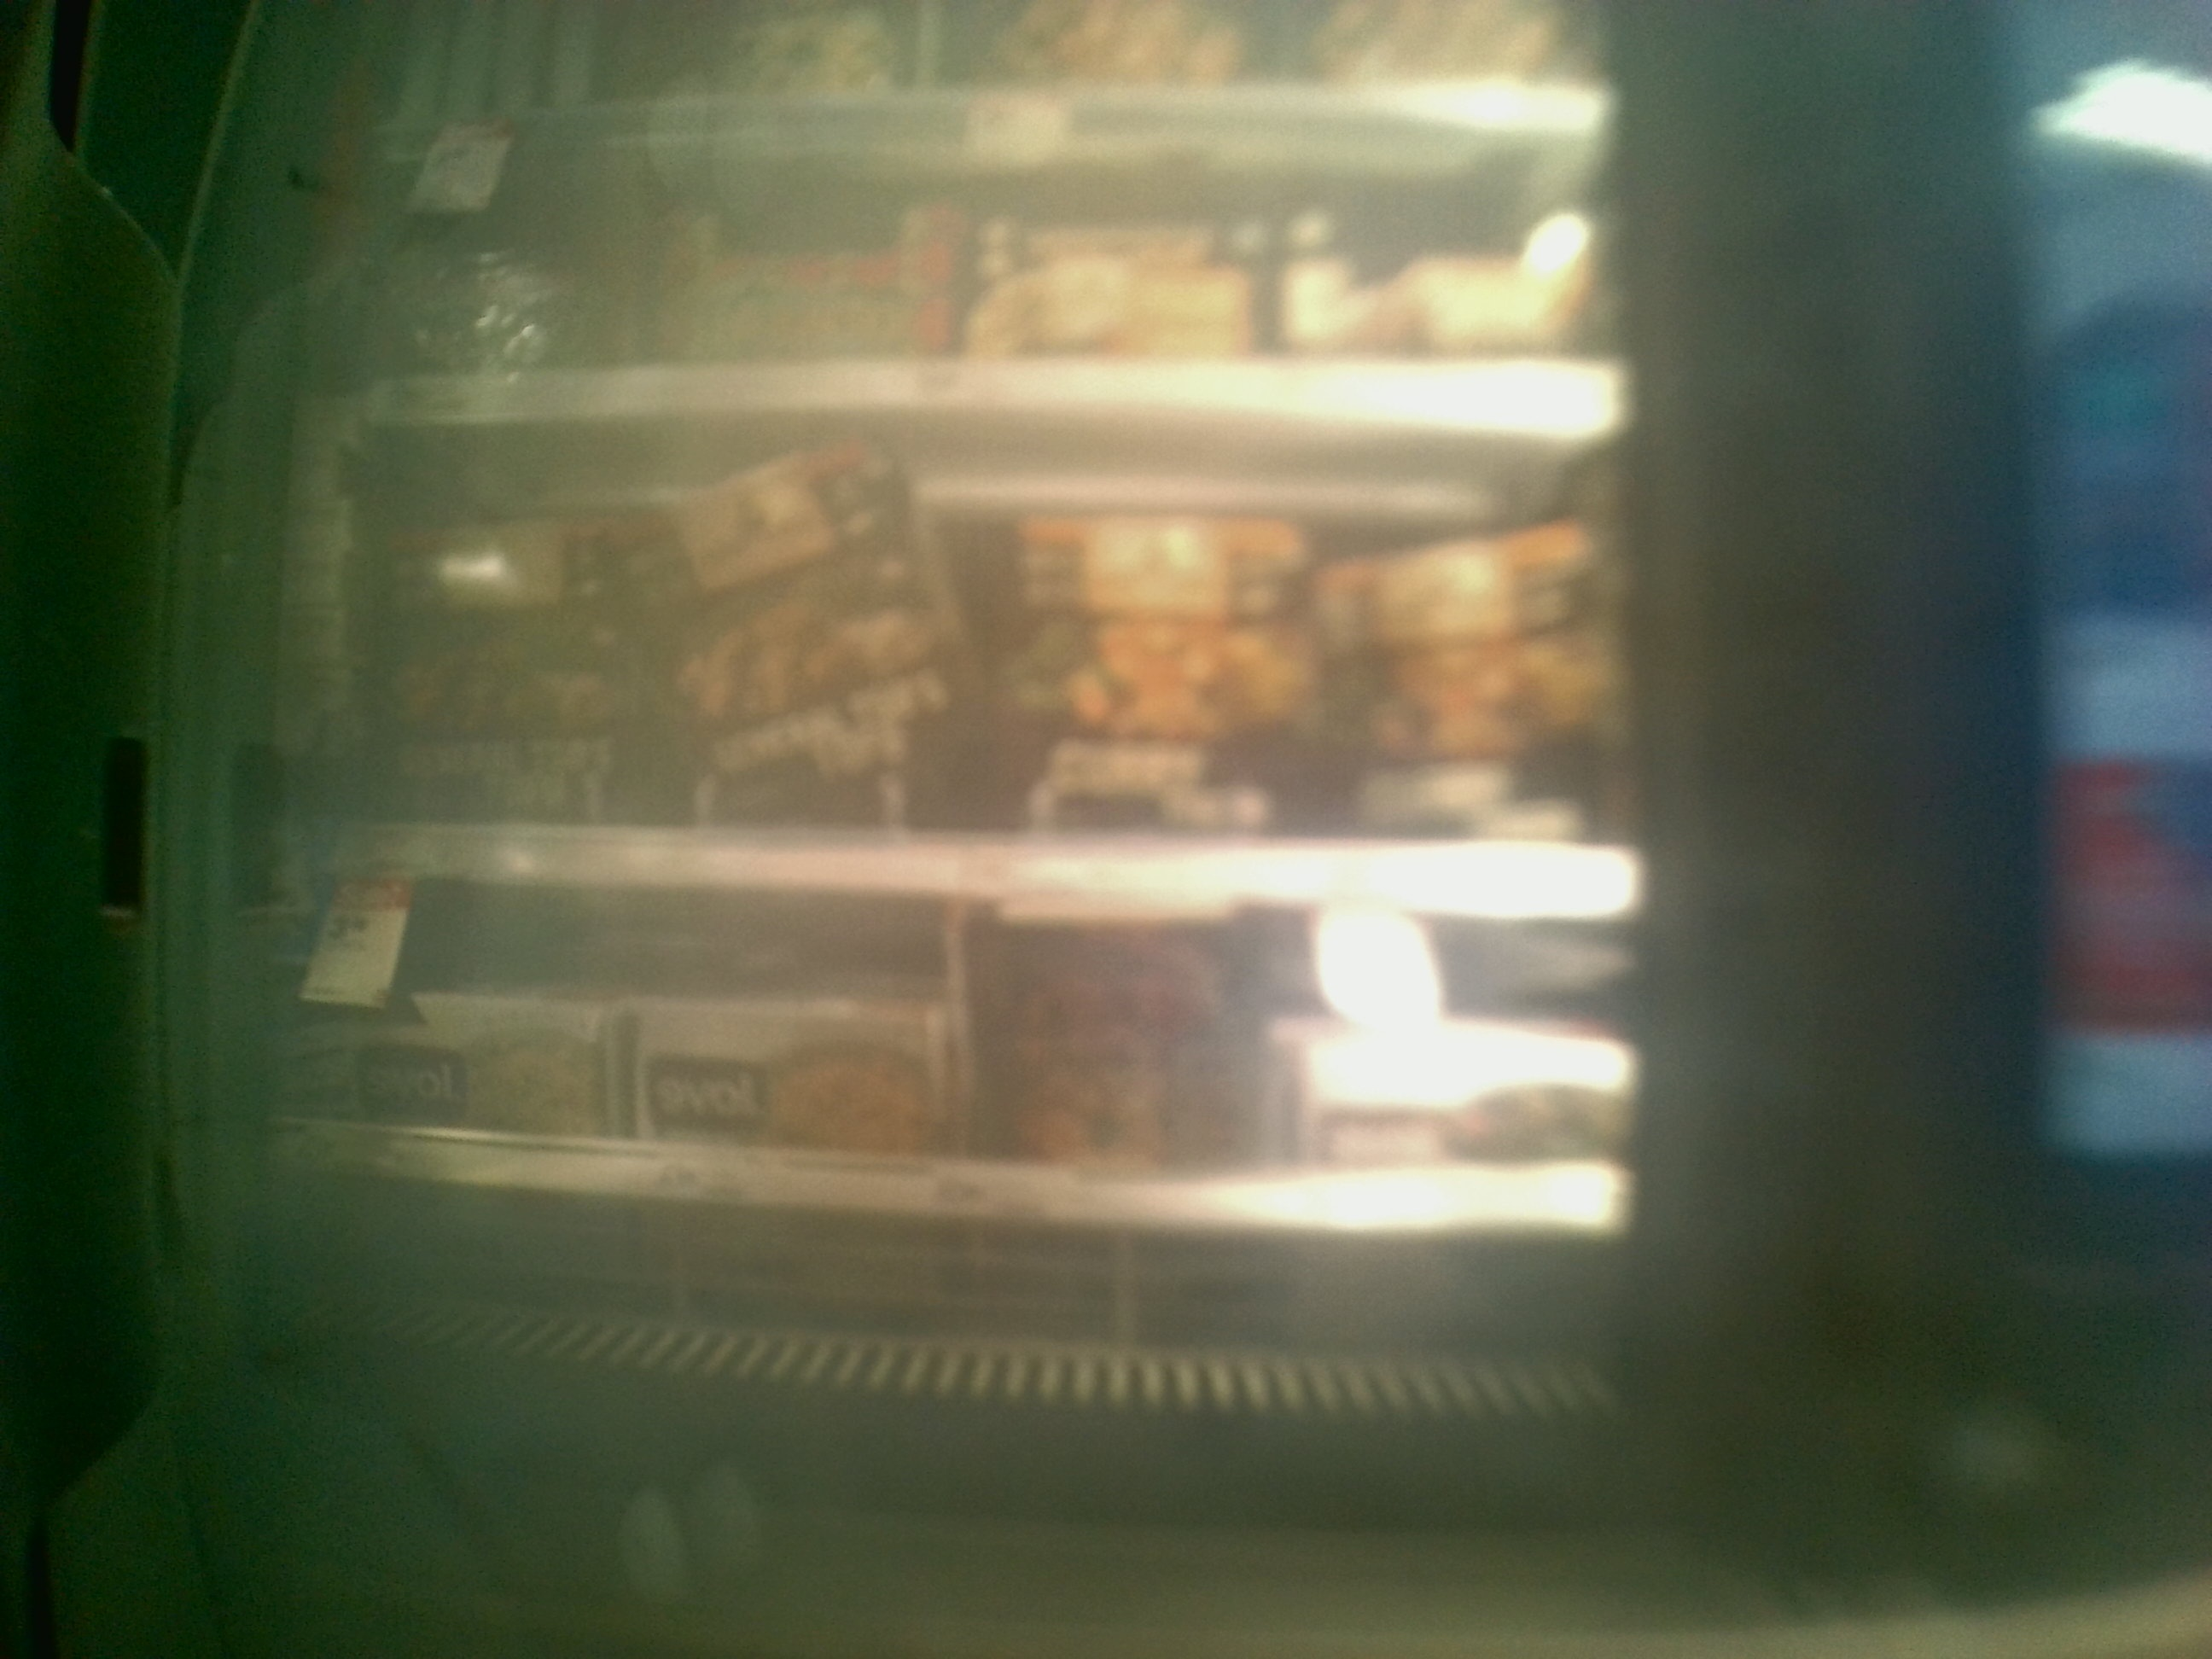frozen-food-shelf: (303, 430, 1646, 915), (284, 915, 1656, 1229)
